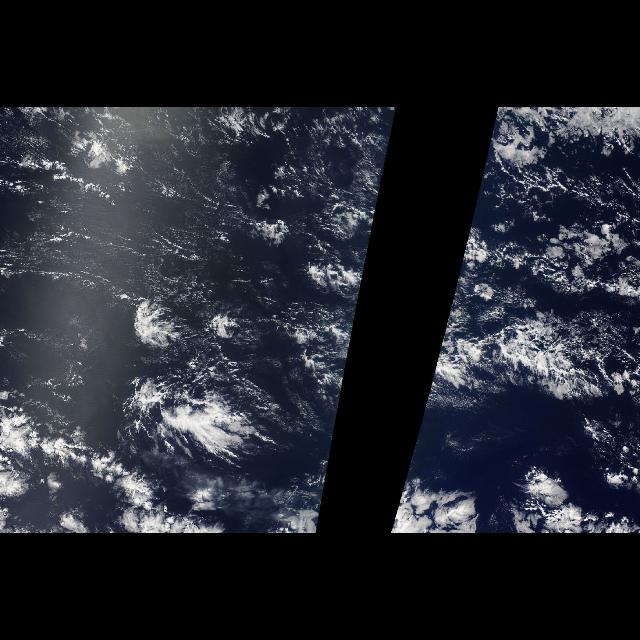Sugar: (3, 114, 370, 296)
